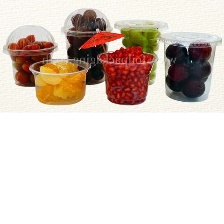glass: (156, 28, 224, 104), (58, 6, 115, 86), (0, 22, 63, 89), (113, 15, 170, 86), (93, 46, 159, 107), (26, 56, 96, 108)
